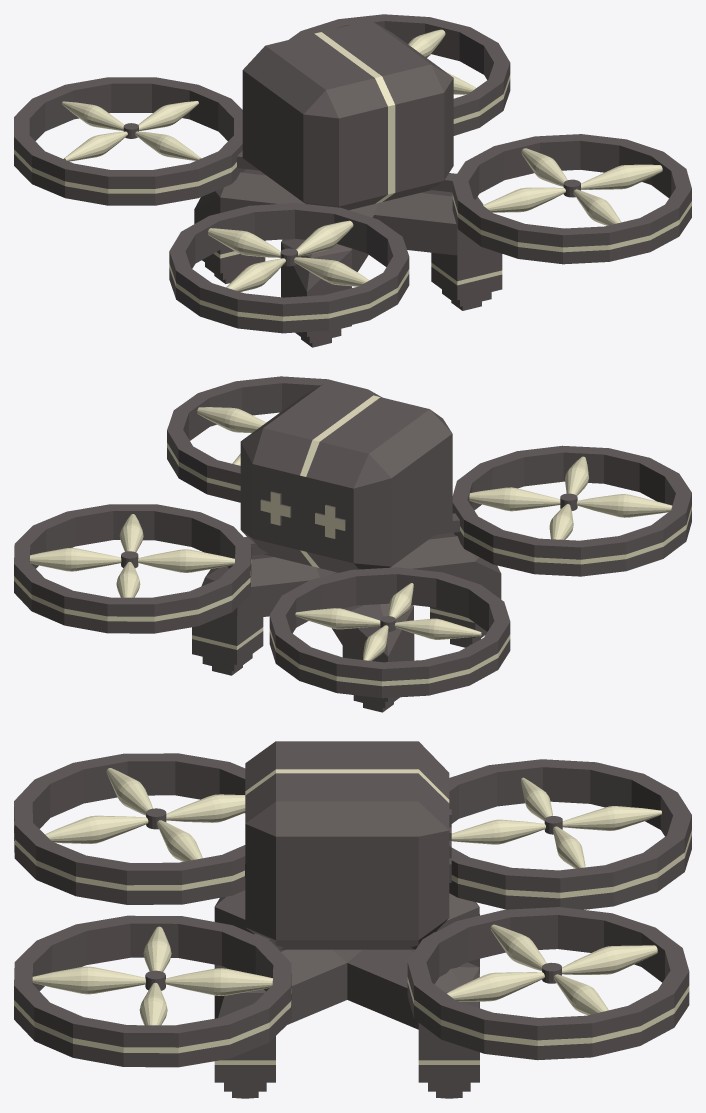
File: Weapon_Drone.fbx
The picture shows the model from 3 angles, top to bottom: view 1: azimuth 30°, elevation 25°; view 2: azimuth 150°, elevation 25°; view 3: azimuth 270°, elevation 25°; orthographic projection. The views are drawn at different scales.
Parts seen in each view (by area): view 1: Drone, Wing_3, Wing_4, Wing_1, Wing_2; view 2: Drone, Wing_3, Wing_2, Wing_1, Wing_4; view 3: Drone, Wing_2, Wing_4, Wing_3, Wing_1.
Boxes of the visible parts, x1,y1,x2,y2 form: Drone: (14, 14, 691, 347); Wing_3: (208, 220, 369, 291); Wing_4: (483, 148, 662, 225); Wing_1: (62, 101, 201, 161); Wing_2: (408, 29, 475, 94); Drone: (14, 376, 691, 712); Wing_3: (469, 456, 672, 539); Wing_2: (30, 514, 234, 597); Wing_1: (295, 583, 481, 660); Wing_4: (197, 407, 266, 465); Drone: (14, 741, 691, 1098); Wing_2: (447, 924, 657, 1015); Wing_4: (32, 926, 272, 1025); Wing_3: (45, 768, 245, 861); Wing_1: (451, 777, 661, 868).
Bounding box in the file's own units: 146 × 150 × 69.17.
